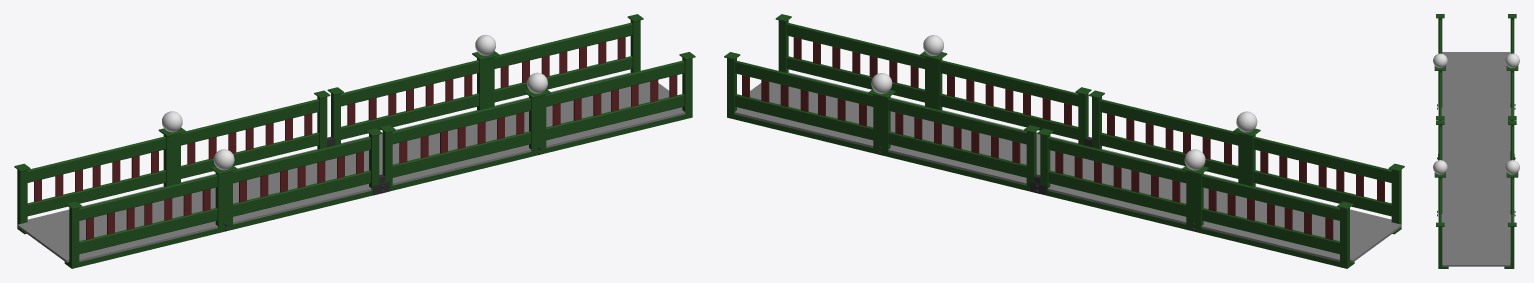
The model's file is bridgey4_cowgame.fbx.
3 renders of one model, left to right at view 1: azimuth 30°, elevation 25°; view 2: azimuth 150°, elevation 25°; view 3: azimuth 270°, elevation 25°, orthographic. The views are drawn at different scales.
Parts seen in each view (by area): view 1: pCube48; view 2: pCube48; view 3: pCube48.
Part boxes in pixels (x1,y1,x2,y2): pCube48: [14, 14, 695, 268]; pCube48: [724, 14, 1404, 268]; pCube48: [1433, 14, 1519, 268].
Bounding box in the file's own units: 1.32 × 0.1612 × 0.2269.
